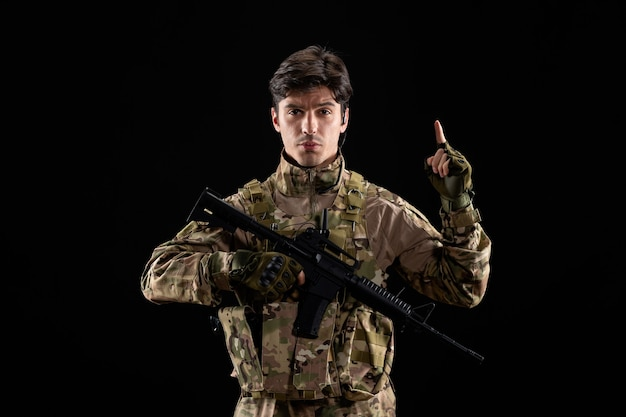gun: (186, 185, 487, 364)
